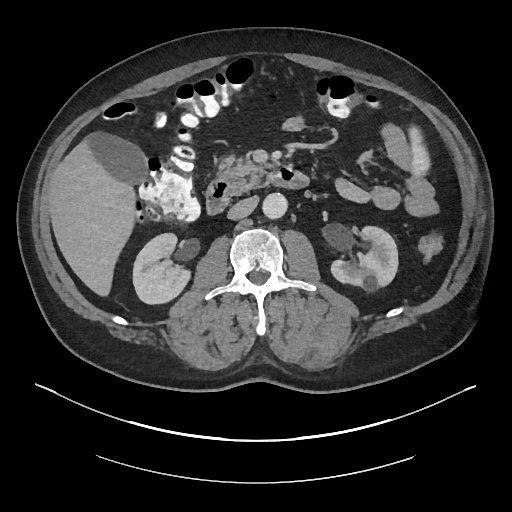Lesion: (362, 274, 378, 289)
